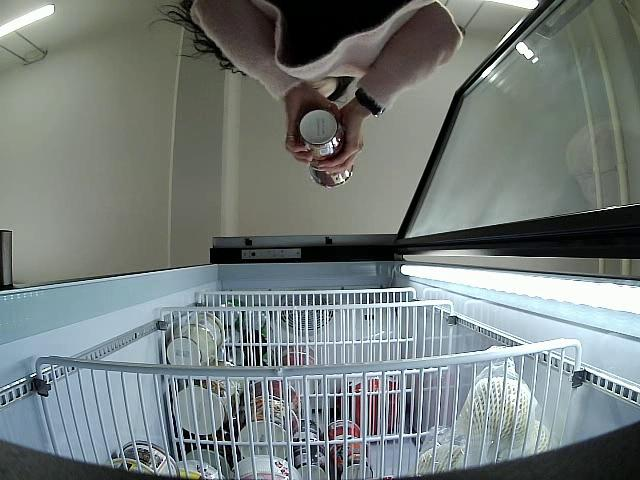00_hand: (278, 79, 332, 167), (319, 104, 366, 177)
06_nuguri_S: (295, 108, 345, 159), (308, 149, 356, 190)
